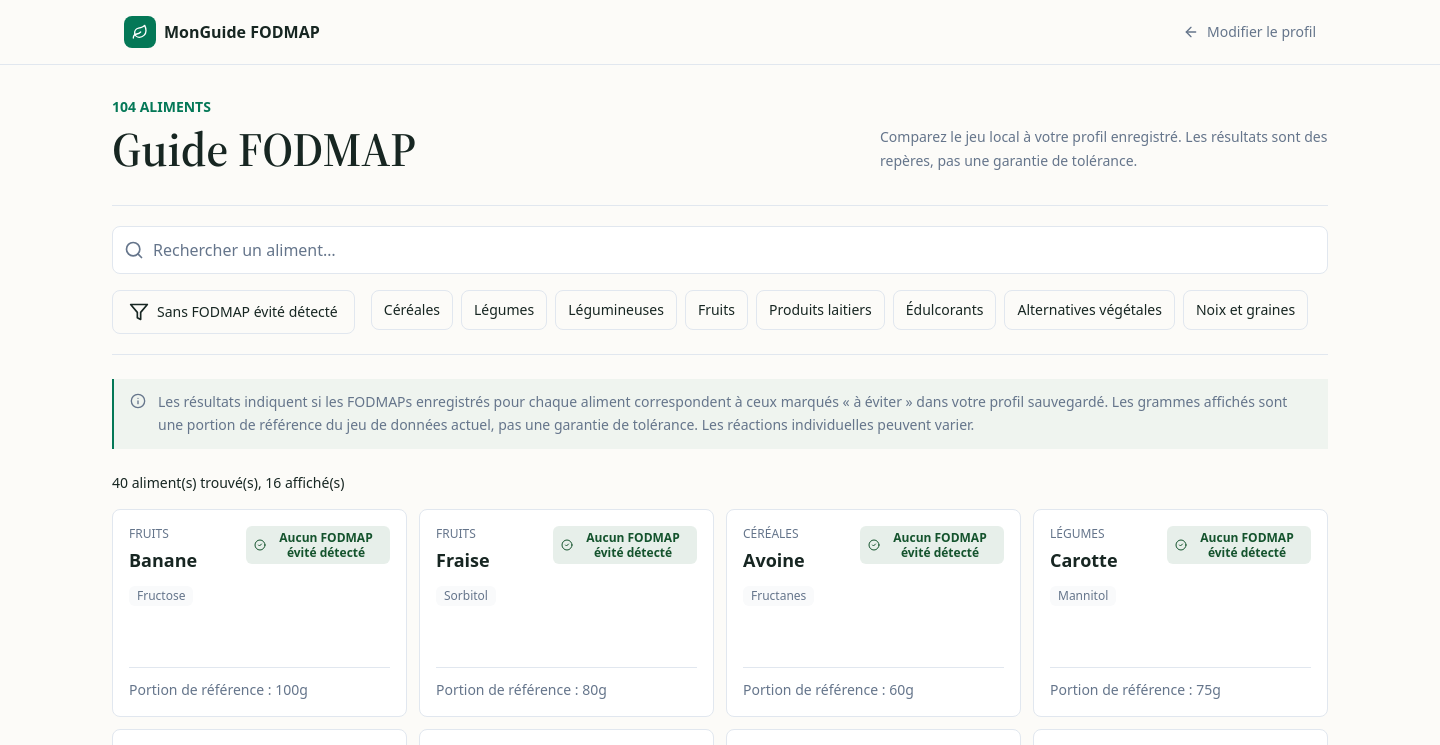
Test: Explorer workflow › combines search, category, and saved-profile filtering
The width and height of the screenshot is (1440, 745).
Type "a" into the search field named "Rechercher des aliments par nom" at (720, 250), box [112,226,1328,274]
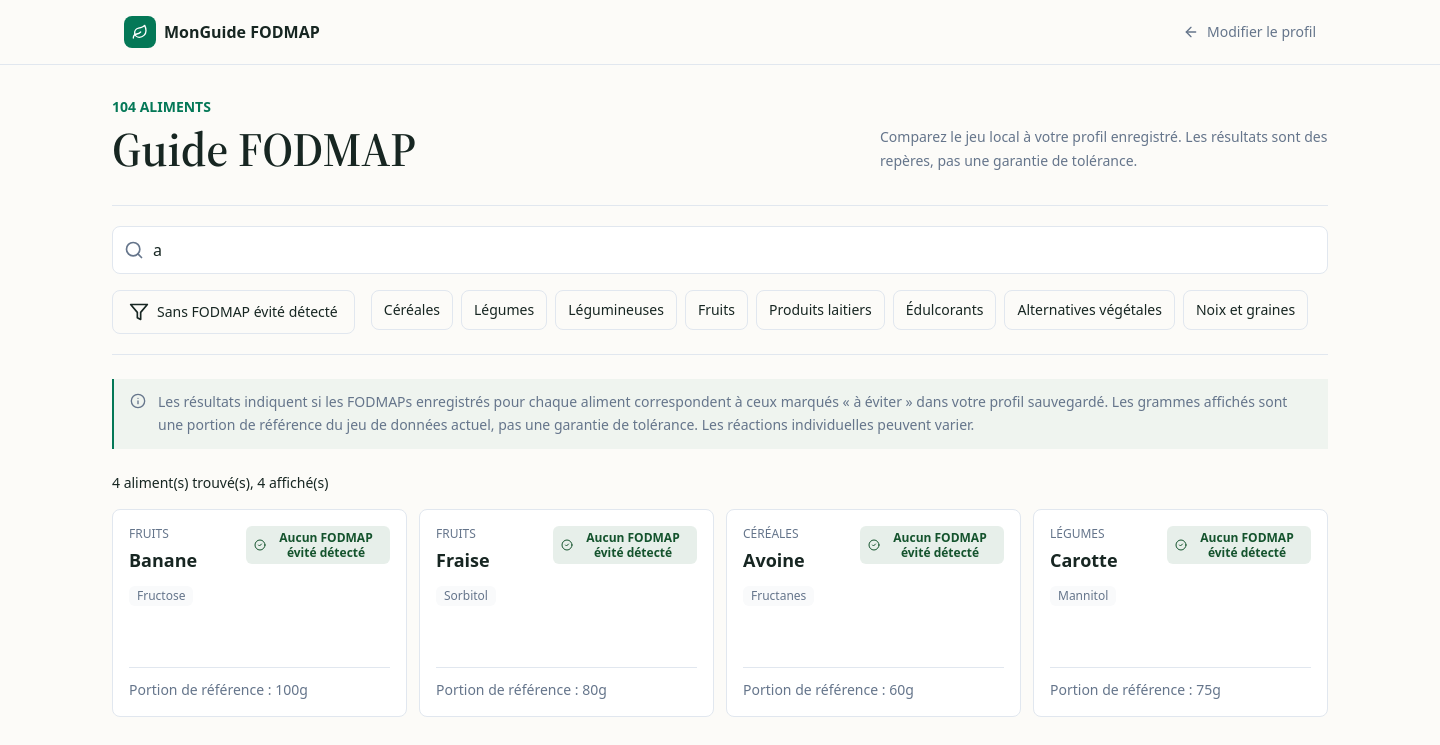
Click the button "Fruits" at (716, 310), box [685,290,748,330]
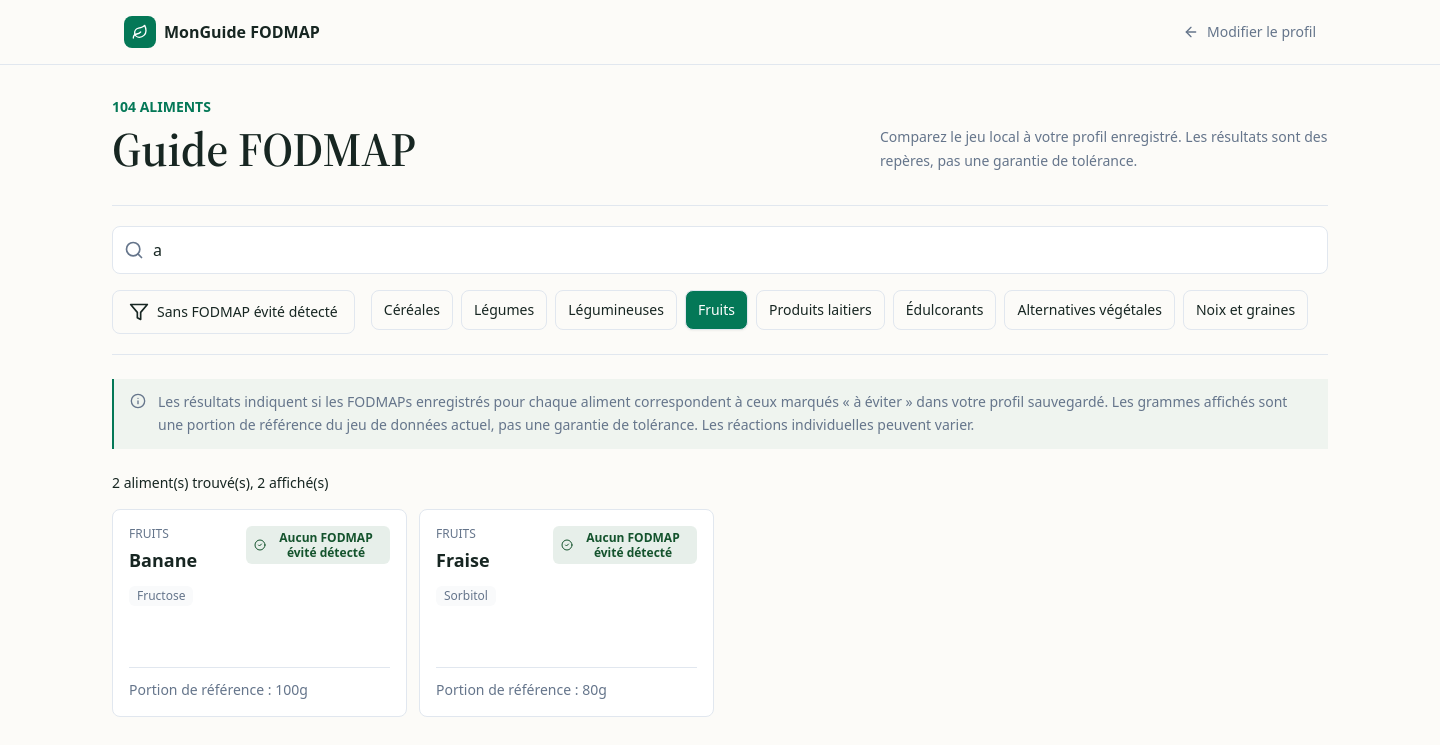
Expected: the heading "Banane" is shown, [129,546,197,574]
Now the message shows "2 aliment(s) trouvé(s)", box [112,472,250,492]
Click the button named "Afficher uniquement les aliments sans FODMAP marqué comme étant à éviter dans mon profil enregistré" at (233, 312), box [112,290,355,334]
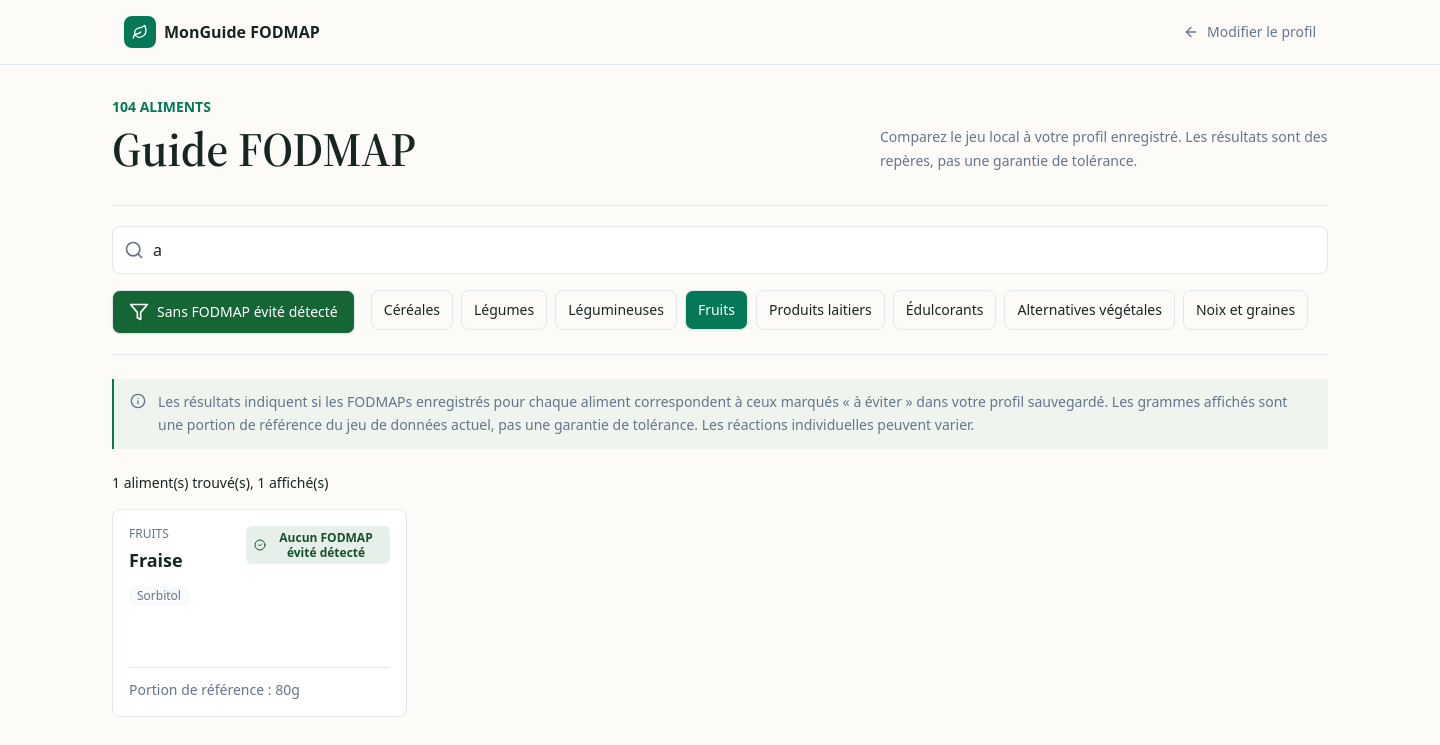
Expected: the heading "Fraise" is shown, [129,546,183,574]
Now the message shows "1 aliment(s) trouvé(s)", box [112,472,250,492]
Now the heading "Banane" is gone
